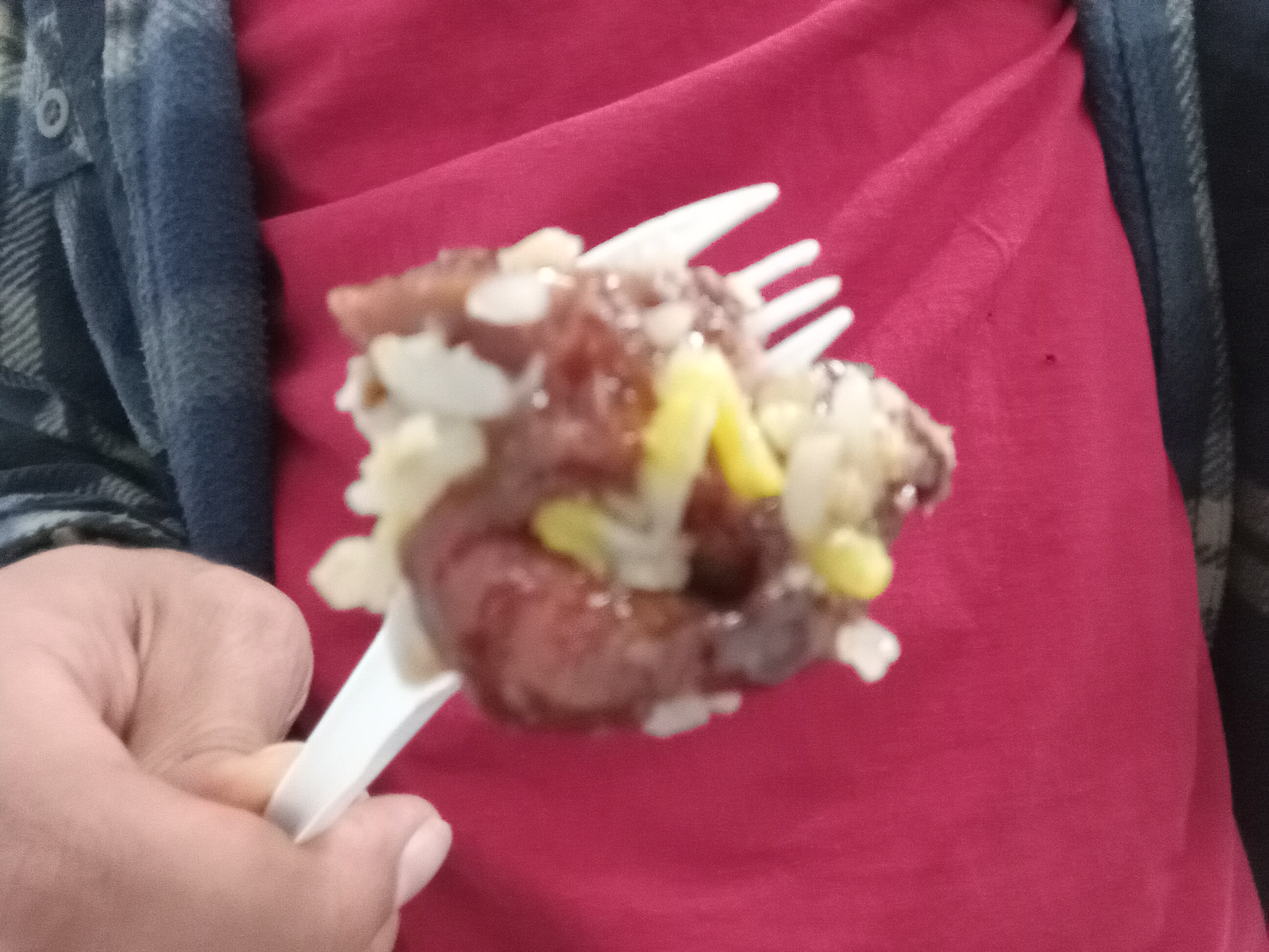Organico: (309, 228, 957, 736)
